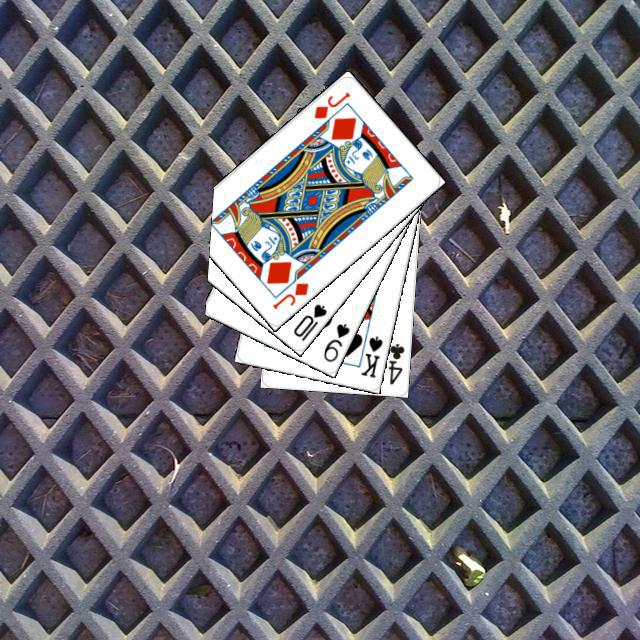10s: (288, 299, 329, 343)
4c: (383, 338, 406, 386)
9s: (318, 319, 351, 364)
Jd: (267, 277, 311, 311), (309, 87, 352, 121)
Ks: (356, 331, 384, 379)
